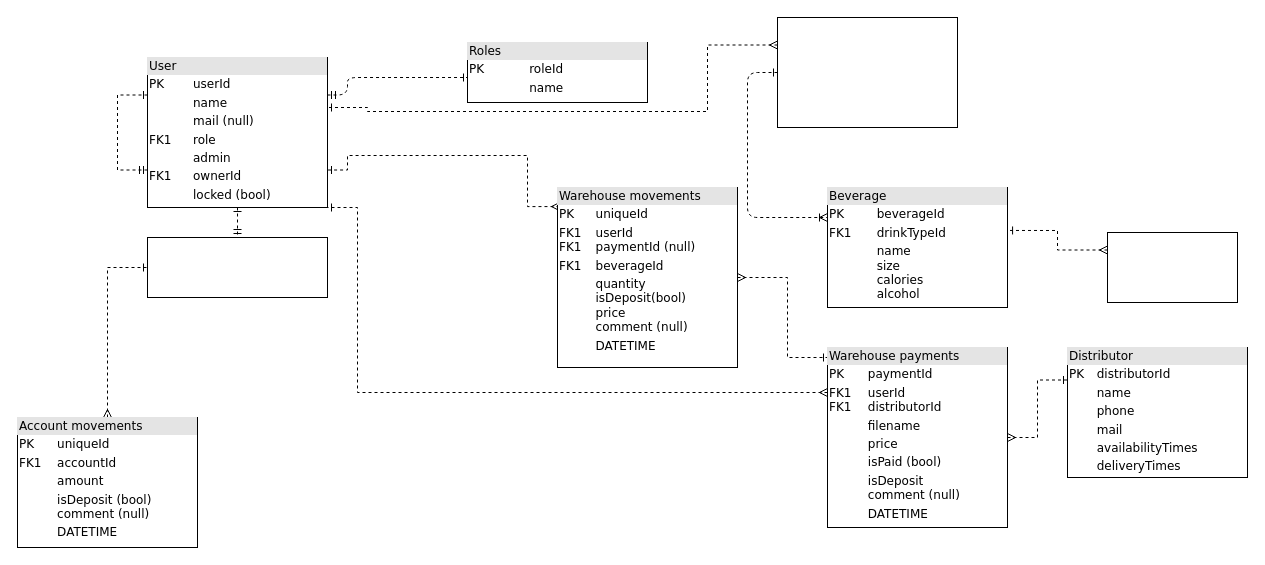
Image size: 1265x565. Some labels were removed from this diagram. The centre of each missing label's shape, as x and y in pixels:
Account PK accountId FK1 ownerId: pixel 237 267
Beverage movements PK uniqueId FK1 userId FK1 beverageId quantity DATETIME: pixel 867 72
DrinkType PK drinkTypeId name price: pixel 1172 267
